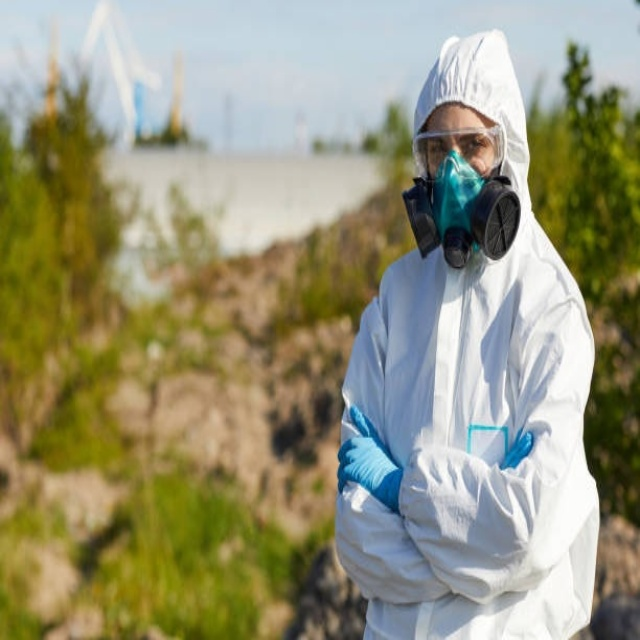Gafas: (414, 124, 503, 182)
Guantes: (338, 409, 404, 511), (501, 430, 534, 471)
Mascara: (431, 150, 489, 264)
